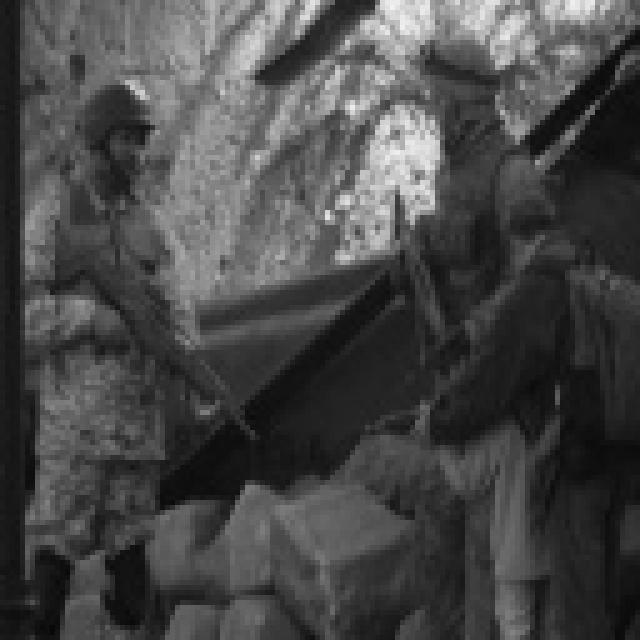Rifle: (0, 198, 281, 494), (367, 186, 493, 410), (347, 329, 527, 451)
